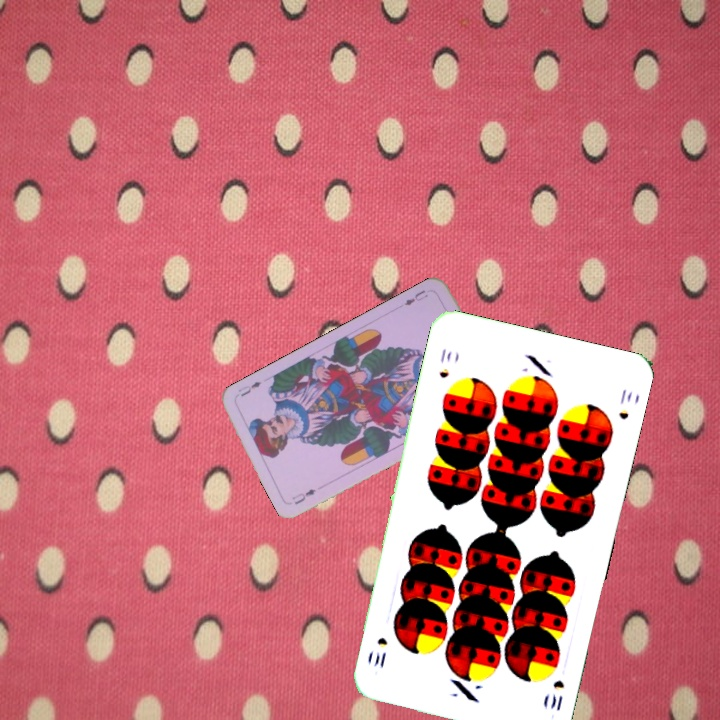EU: (400, 286, 431, 308), (288, 485, 318, 507)
S10: (546, 676, 567, 714), (435, 344, 454, 381)
